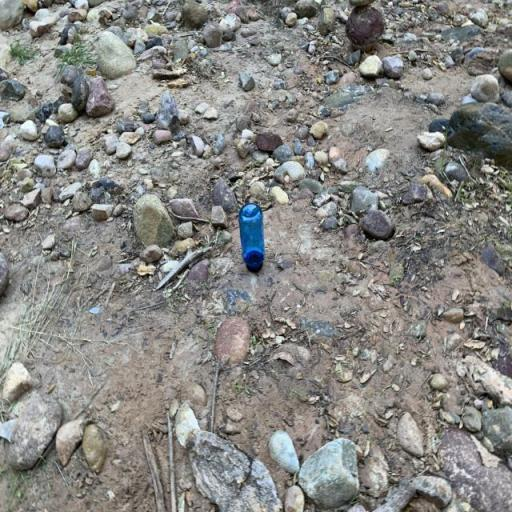bottle: (238, 203, 266, 274)
